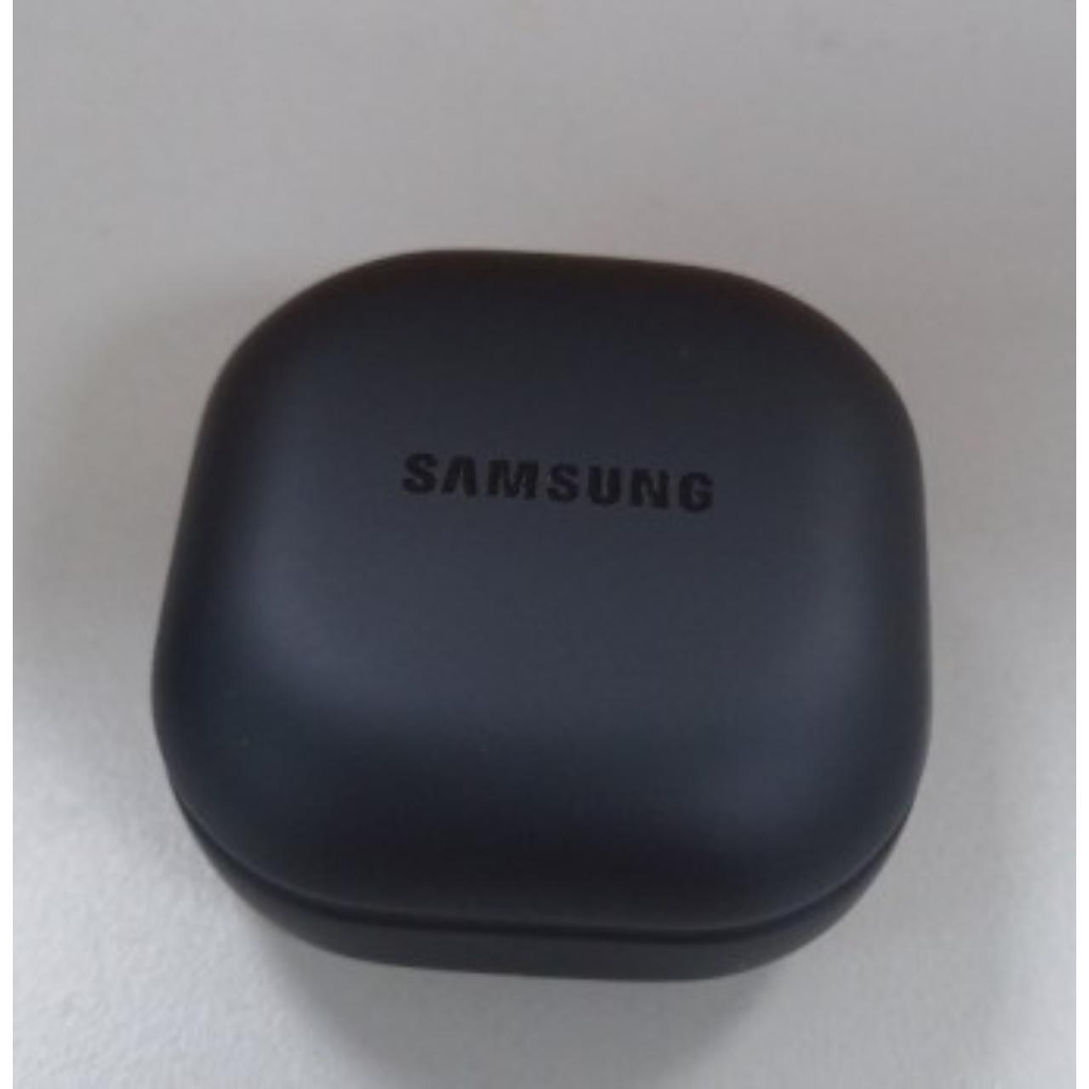Buds: (148, 248, 939, 992)
